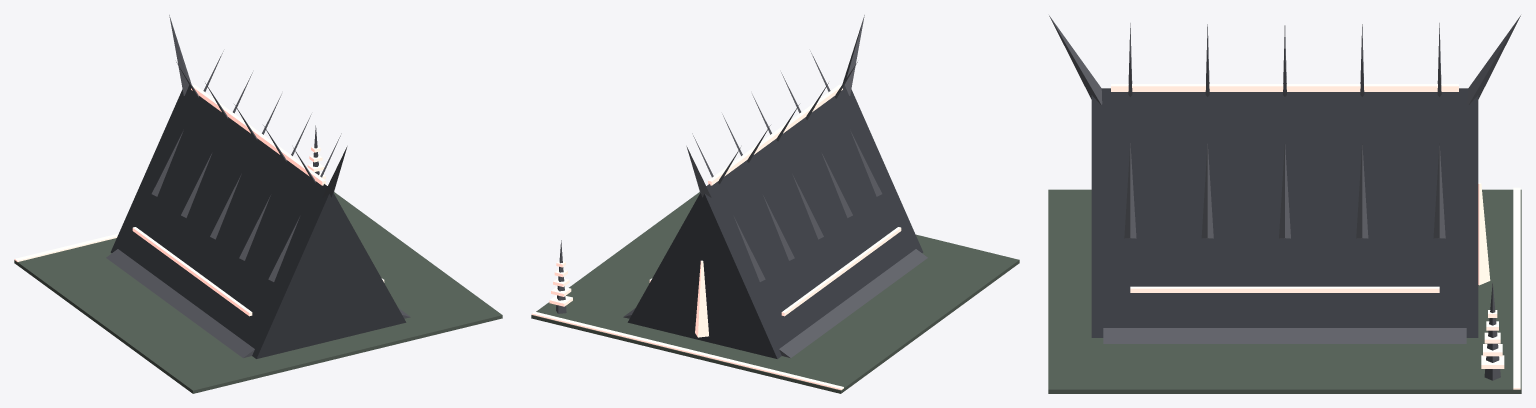
File: zone_low_3_t5.glb
3 views of the same model, side by side, from view 1: azimuth 30°, elevation 25°; view 2: azimuth 150°, elevation 25°; view 3: azimuth 270°, elevation 25° (orthographic). The views are drawn at different scales.
Parts seen in each view (by area): view 1: zone_low_3_t5, detail; view 2: zone_low_3_t5, detail; view 3: zone_low_3_t5, detail.
Boxes of the visible parts, box(x1,y1,x2,y2) form: zone_low_3_t5: box(14, 15, 502, 393); detail: box(14, 125, 384, 316); zone_low_3_t5: box(531, 15, 1019, 393); detail: box(531, 227, 901, 390); zone_low_3_t5: box(1048, 15, 1521, 393); detail: box(1130, 187, 1520, 389).
Bounding box in the file's own units: 19.6 × 12.79 × 19.6.
